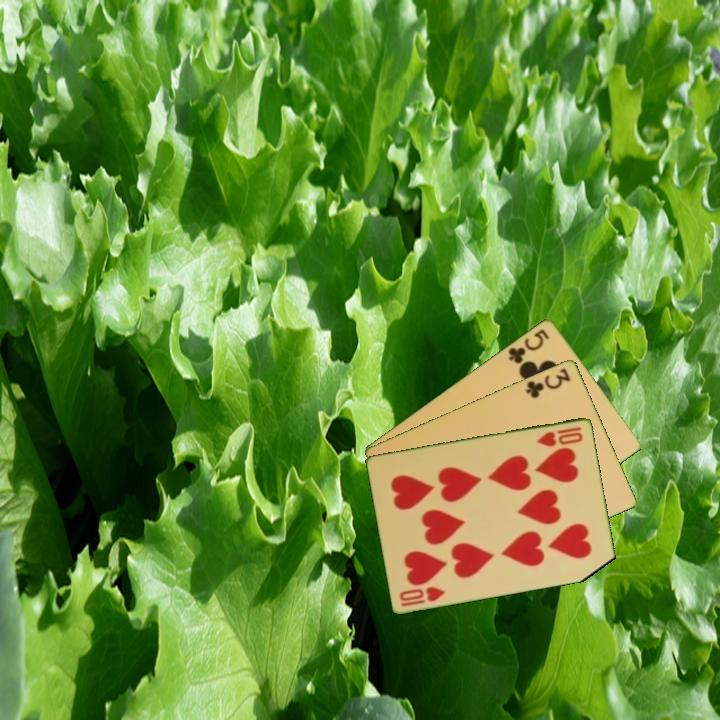10h: (533, 423, 586, 449), (396, 583, 448, 609)
3c: (522, 364, 573, 401)
5c: (505, 325, 553, 366)
